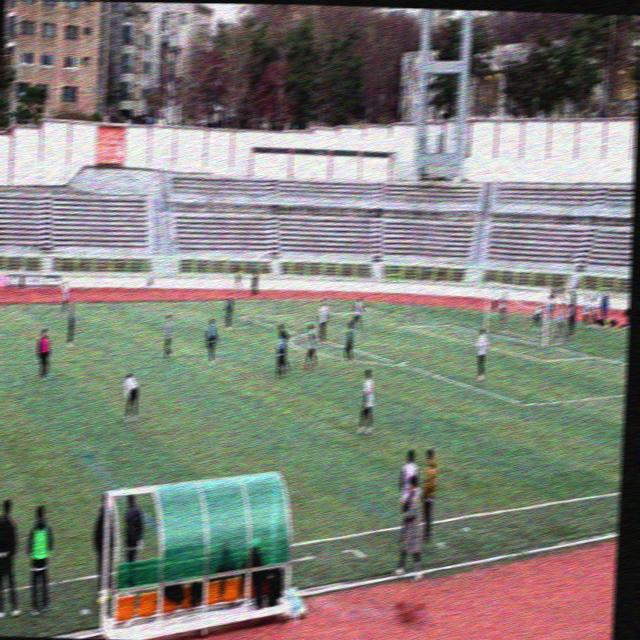bigarea_bottom_inner: (515, 389, 535, 421)
bigarea_top_inner: (234, 309, 243, 322)
bottom_arc_area_intersection: (390, 350, 407, 376)
smallarea_bottom_inner: (538, 351, 547, 369)
smallarea_bottom_outter: (585, 347, 597, 365)
smallarea_top_inner: (396, 318, 408, 333)
smallarea_top_outter: (442, 320, 451, 330)
top_arc_area_intersection: (295, 327, 308, 343)
